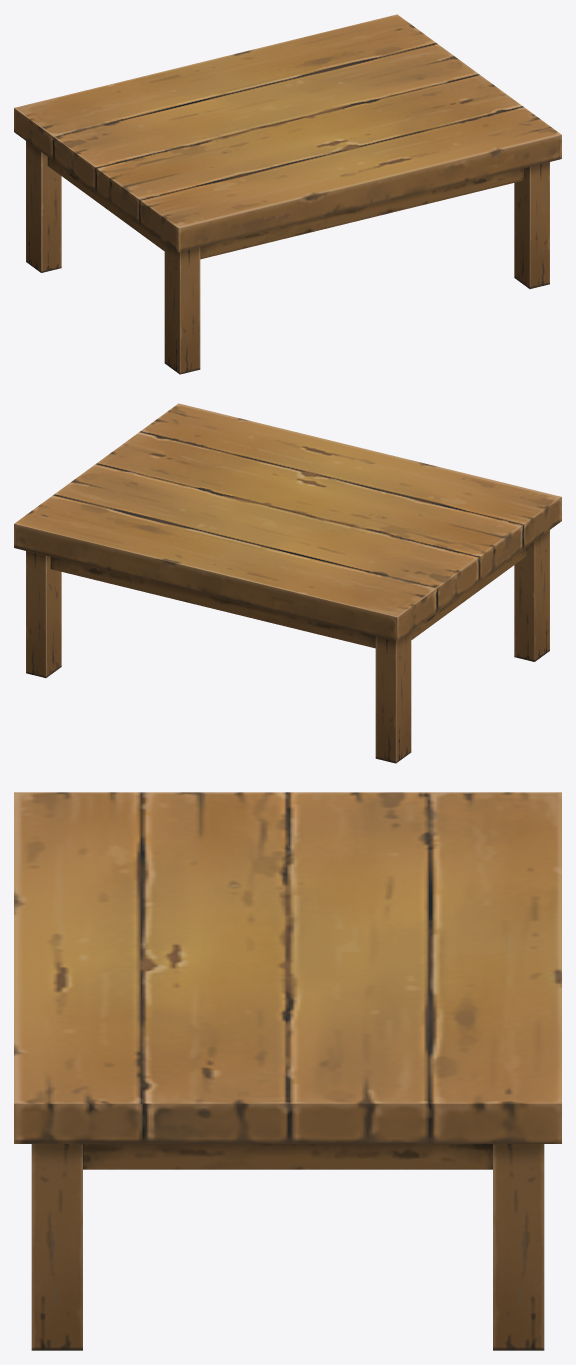
The model's file is sb_obj_indoor005_Table01.fbx.
3 views of the same model, one above another, from view 1: azimuth 30°, elevation 25°; view 2: azimuth 150°, elevation 25°; view 3: azimuth 270°, elevation 25° (orthographic). The views are drawn at different scales.
Visible parts, largest first — view 1: table1; view 2: table1; view 3: table1.
Part boxes in pixels (x1=…): table1: x1=14, y1=14, x2=561, y2=374; table1: x1=14, y1=403, x2=561, y2=763; table1: x1=14, y1=792, x2=561, y2=1350.
Size of the model in its own units: 1.98 by 0.7495 by 1.47.
